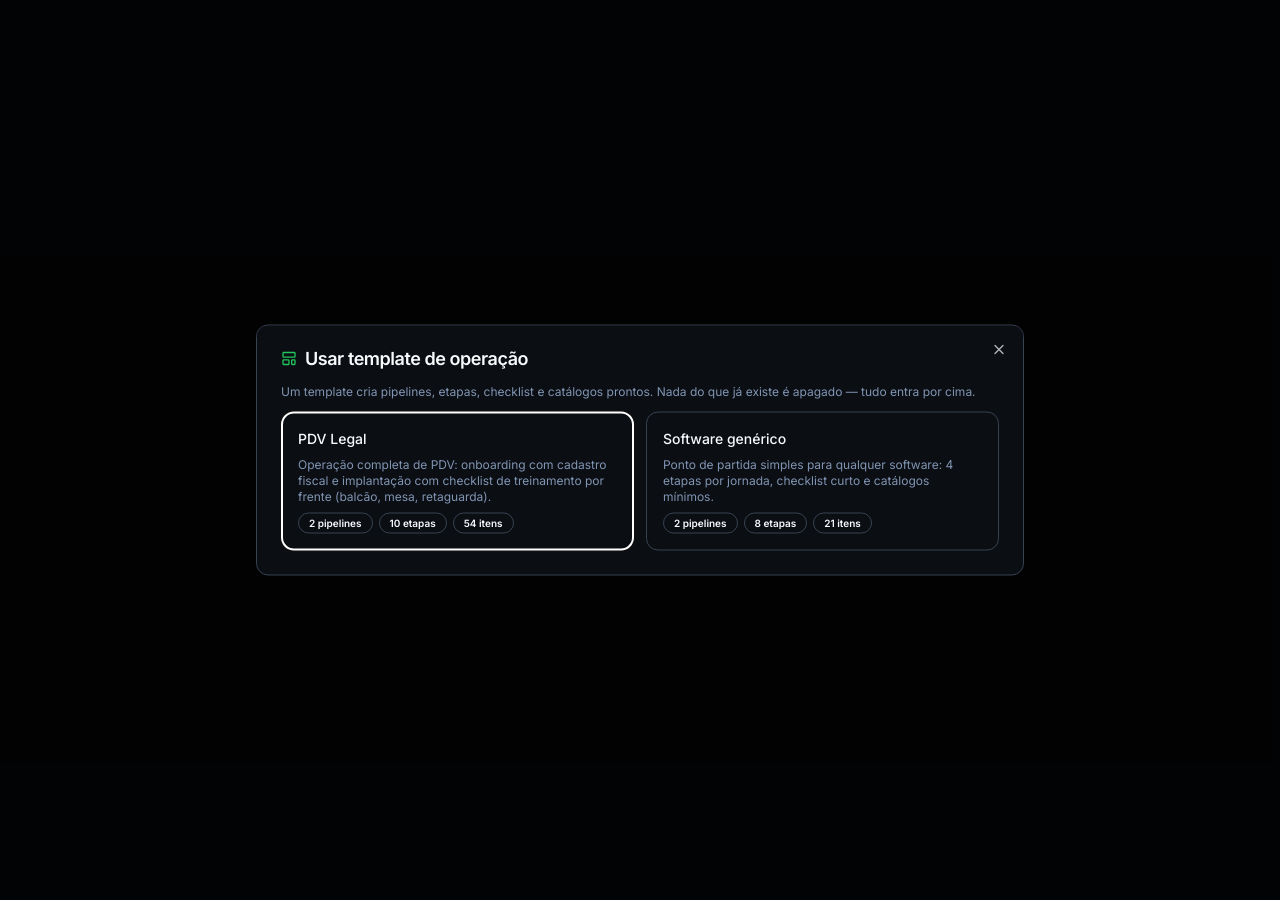
ApplyTemplateDialog › com pipeline de mesmo nome já existente, o que vai para o banco leva sufixo
Later steps or results of the test are not shown.
Click the button that starts with "PDV Legal" at [458, 481], box [281,412,634,550]
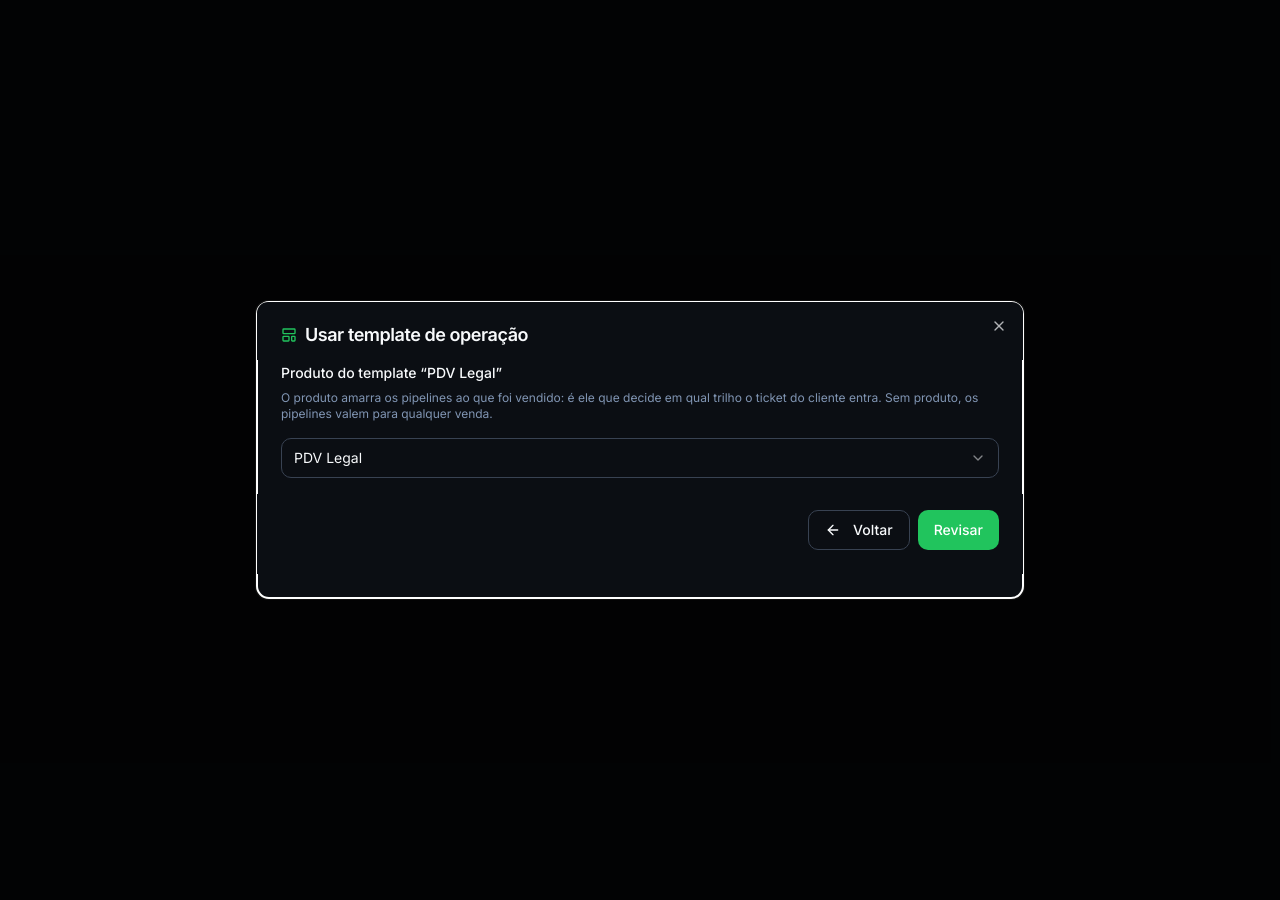
Click the button "Revisar" at [958, 530], box [918,510,999,550]
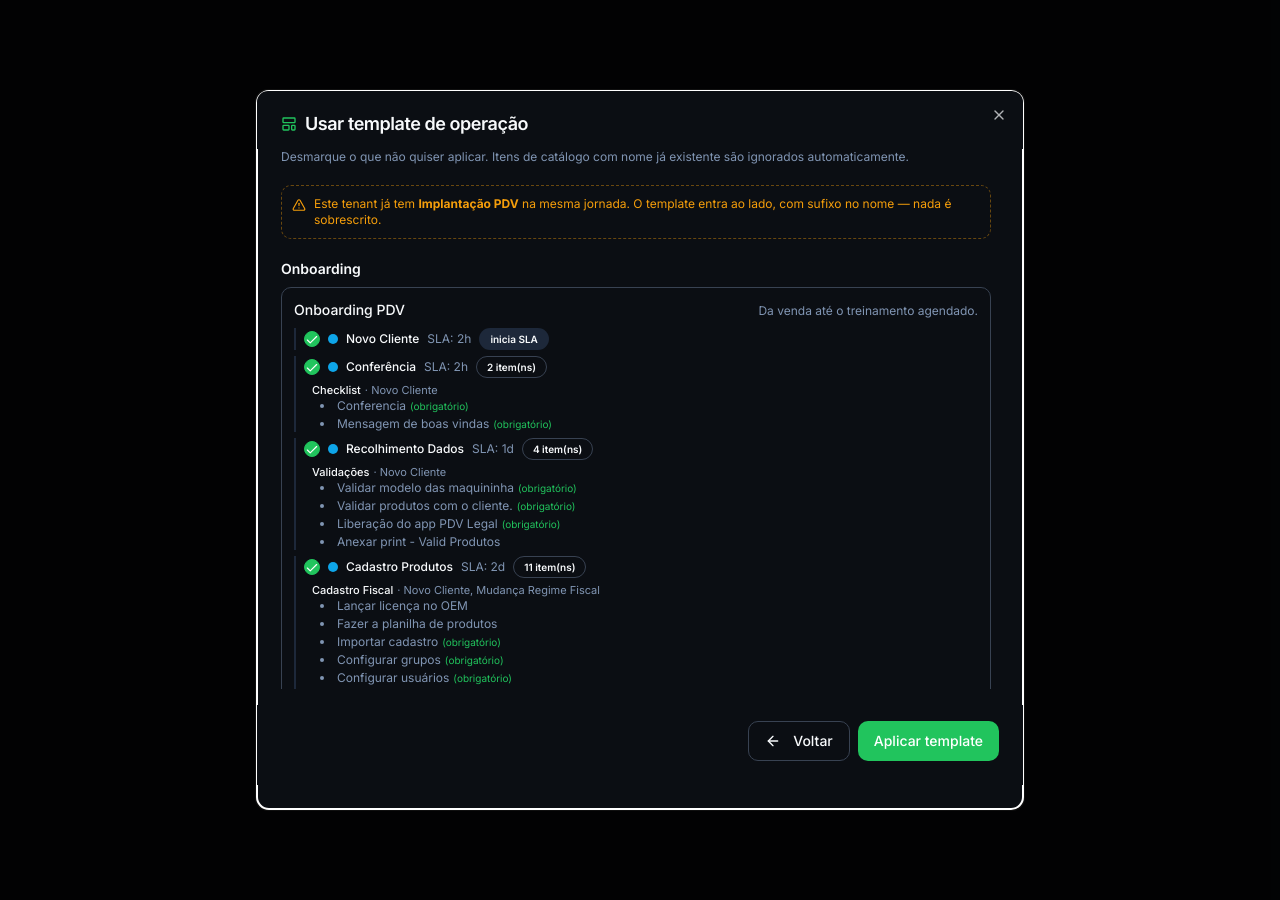
Now the text "já tem" is shown, box [314,196,418,211]
